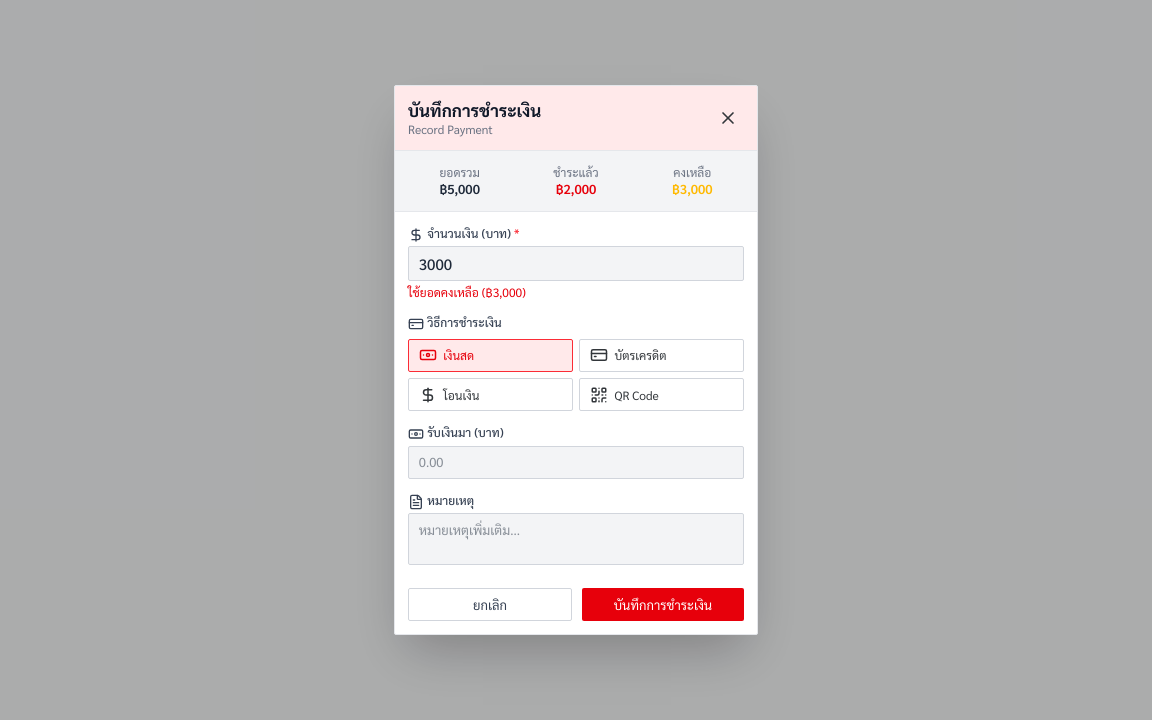
it: PaymentModal Component › API Submission › shows error message on API failure
This screenshot has width=1152, height=720.
Click the button "บันทึกการชำระเงิน" at [663, 605], box [582,588,744,621]
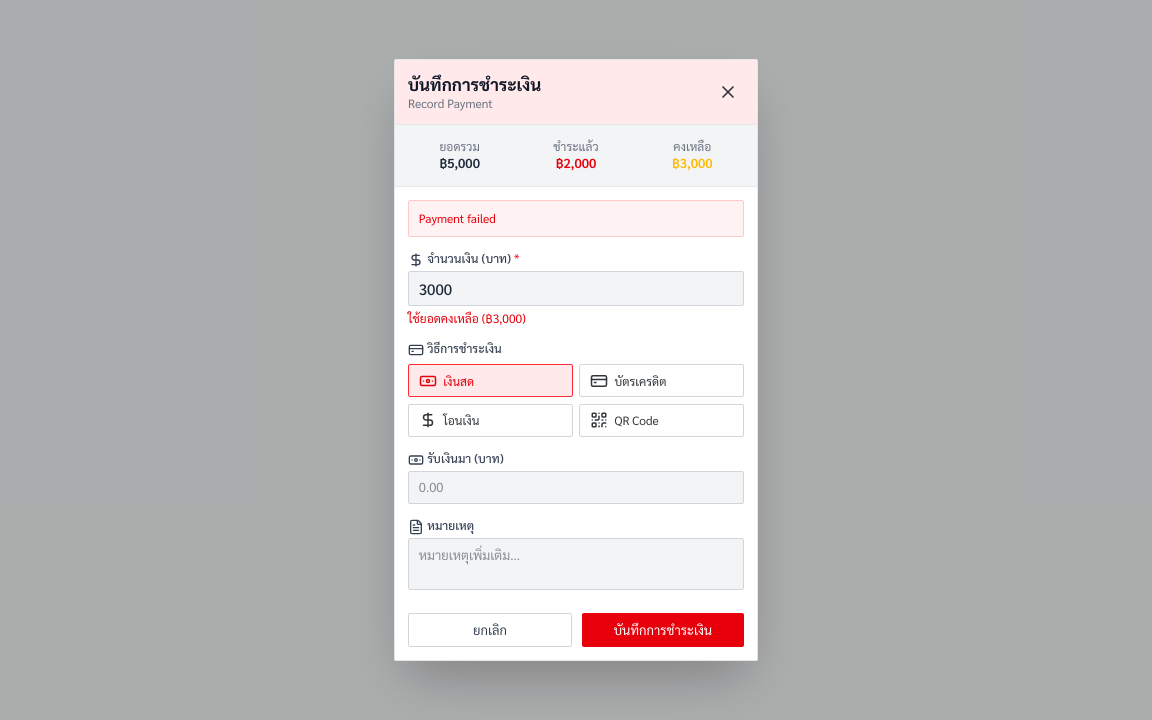
Result: the text "Payment failed" is shown at [408,200,744,237]
